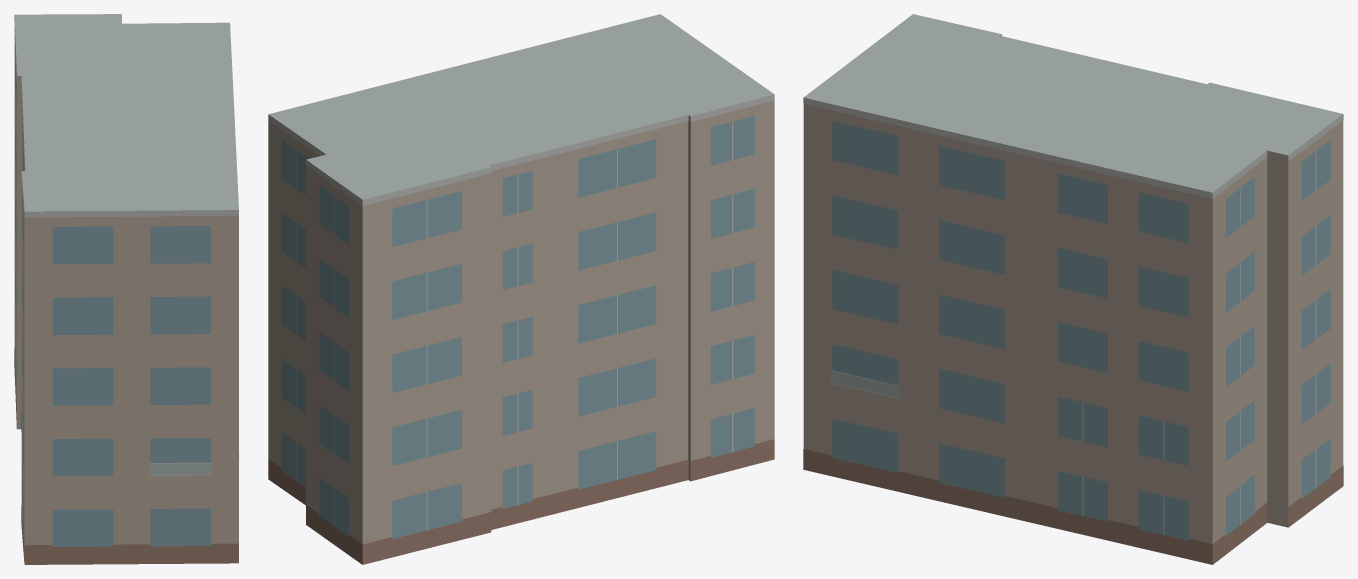
Rendered from survey-upis-32990154.glb.
The picture shows the model from 3 angles, left to right: view 1: azimuth 30°, elevation 25°; view 2: azimuth 150°, elevation 25°; view 3: azimuth 270°, elevation 25°; orthographic projection. The views are drawn at different scales.
Visible parts, largest first — view 1: survey-upis-32990154.tmp; view 2: survey-upis-32990154.tmp; view 3: survey-upis-32990154.tmp.
Part boxes in pixels (x1,y1,x2,y2): survey-upis-32990154.tmp: [14, 14, 239, 564]; survey-upis-32990154.tmp: [268, 14, 774, 564]; survey-upis-32990154.tmp: [803, 14, 1343, 564].
Size of the model in its own units: 15.05 by 14.6 by 19.21.
